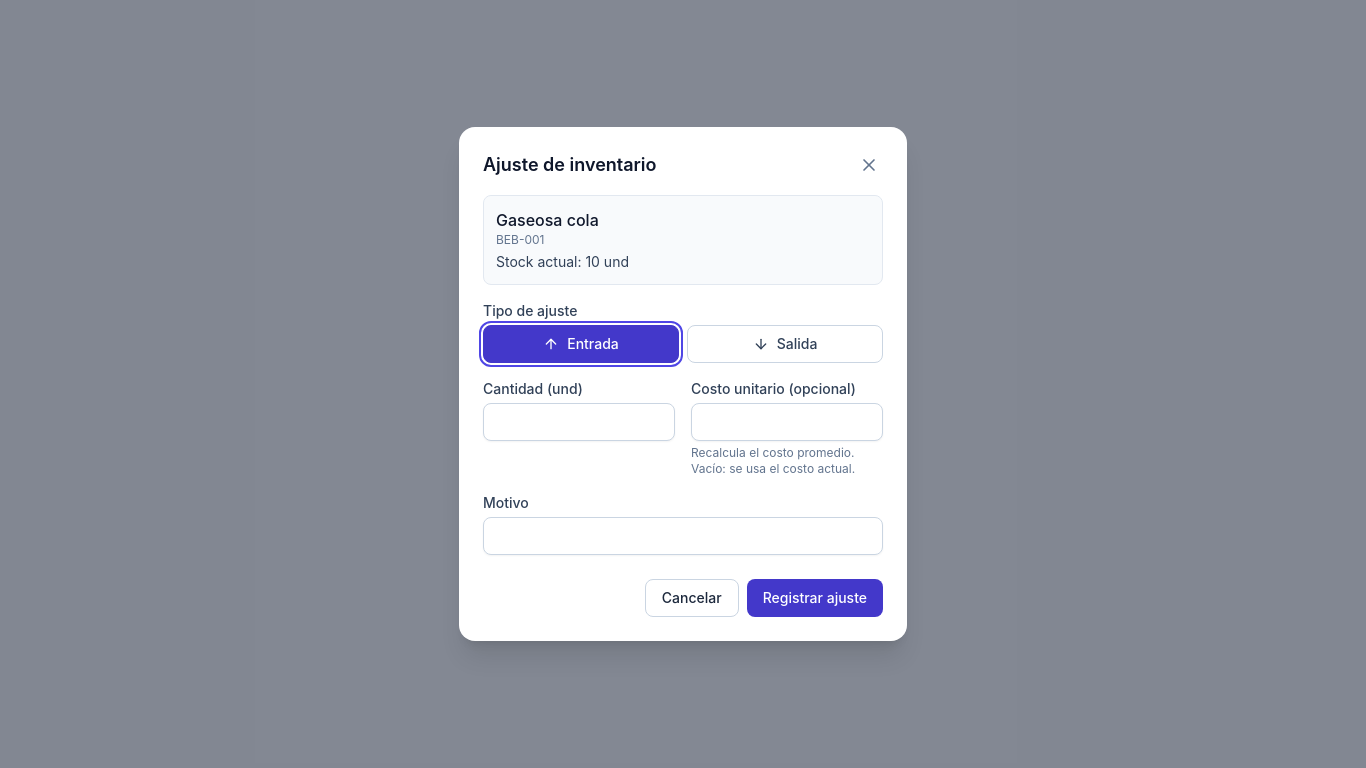
Test: AdjustmentFormModal › warns about negative stock and hides the cost for exits
This screenshot has width=1366, height=768.
Click the radio button labelled "Salida". click: (785, 344)
box: [687,325,883,363]
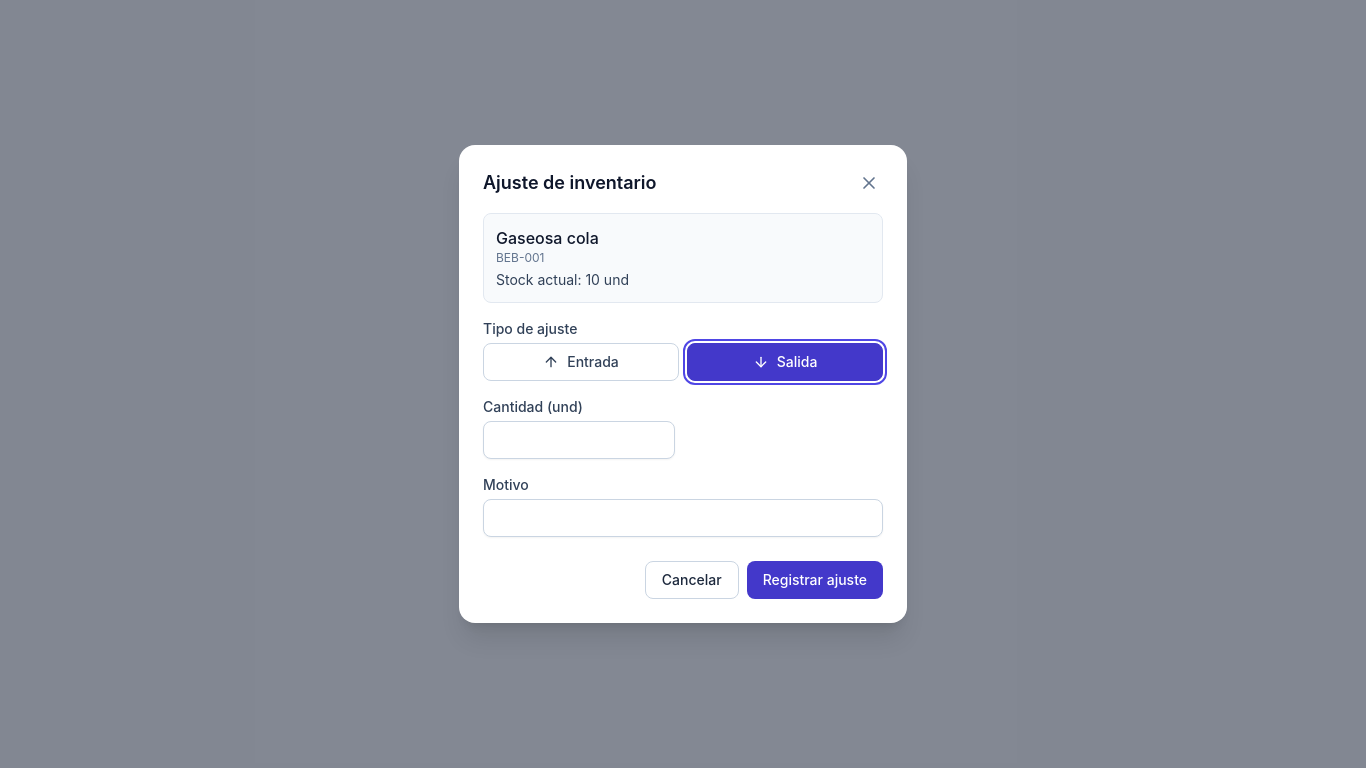
Type "12" into the field labelled "Cantidad (und)". click: (579, 440)
box: [483,421,675,459]
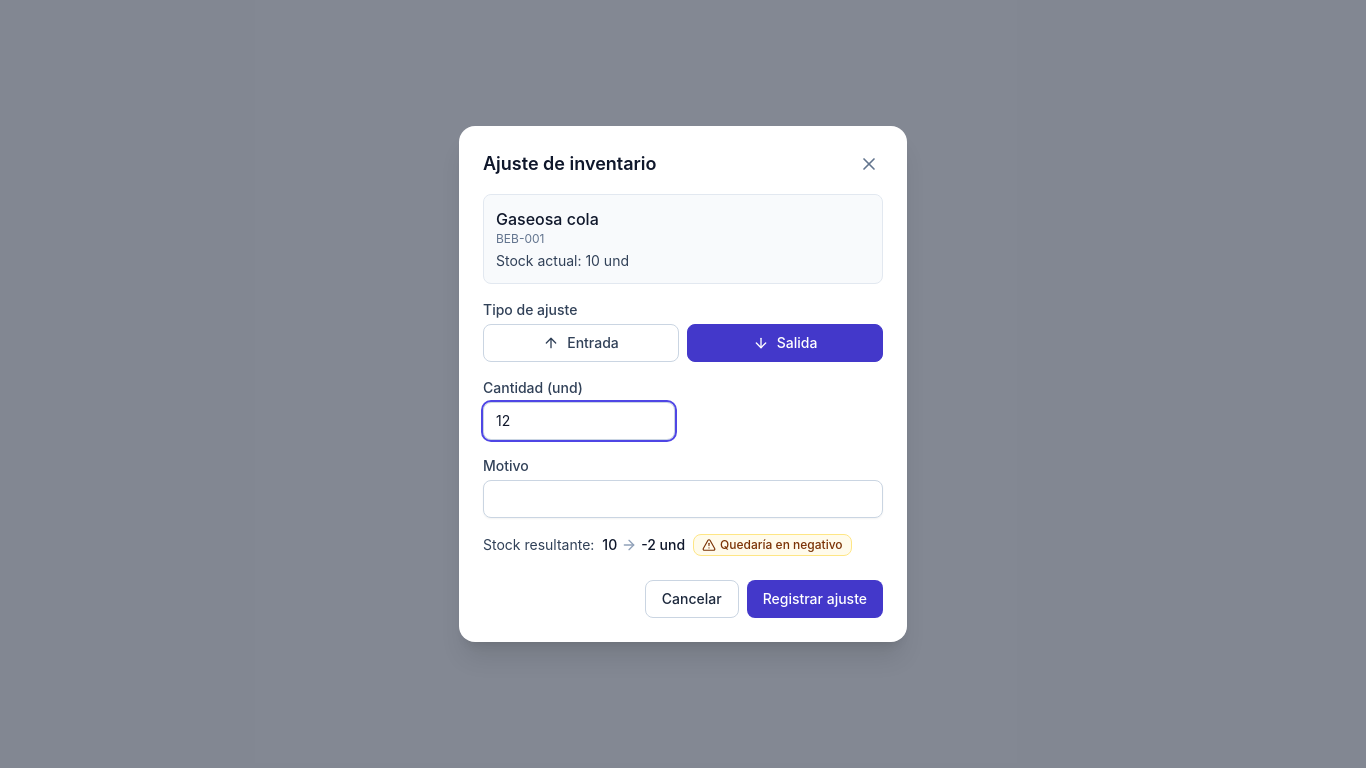
Expected: the label labelled "Costo unitario (opcional)" is not shown
Expected: the text "Quedaría en negativo" is shown, [693,534,852,556]
